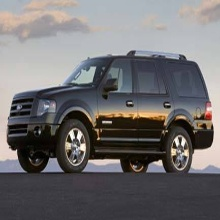no damage: (7, 52, 214, 173)
